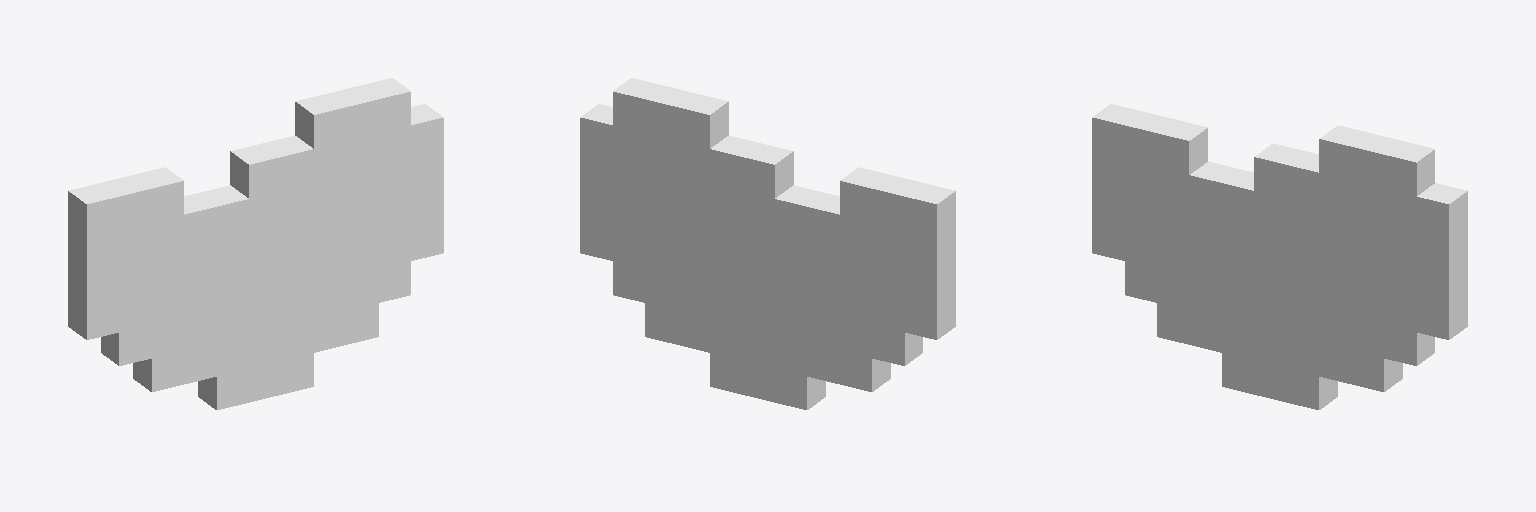
Rendered from mouth1.obj.
3 views of the same model, side by side, from view 1: azimuth 30°, elevation 25°; view 2: azimuth 150°, elevation 25°; view 3: azimuth 330°, elevation 25° (orthographic).
Visible parts, largest first — view 1: object 1; view 2: object 1; view 3: object 1.
Part boxes in pixels (bbox=[...]): object 1: bbox=[68, 78, 443, 409]; object 1: bbox=[580, 78, 955, 409]; object 1: bbox=[1092, 104, 1467, 409].
Bounding box in the file's own units: 1.1 × 0.8 × 0.1.